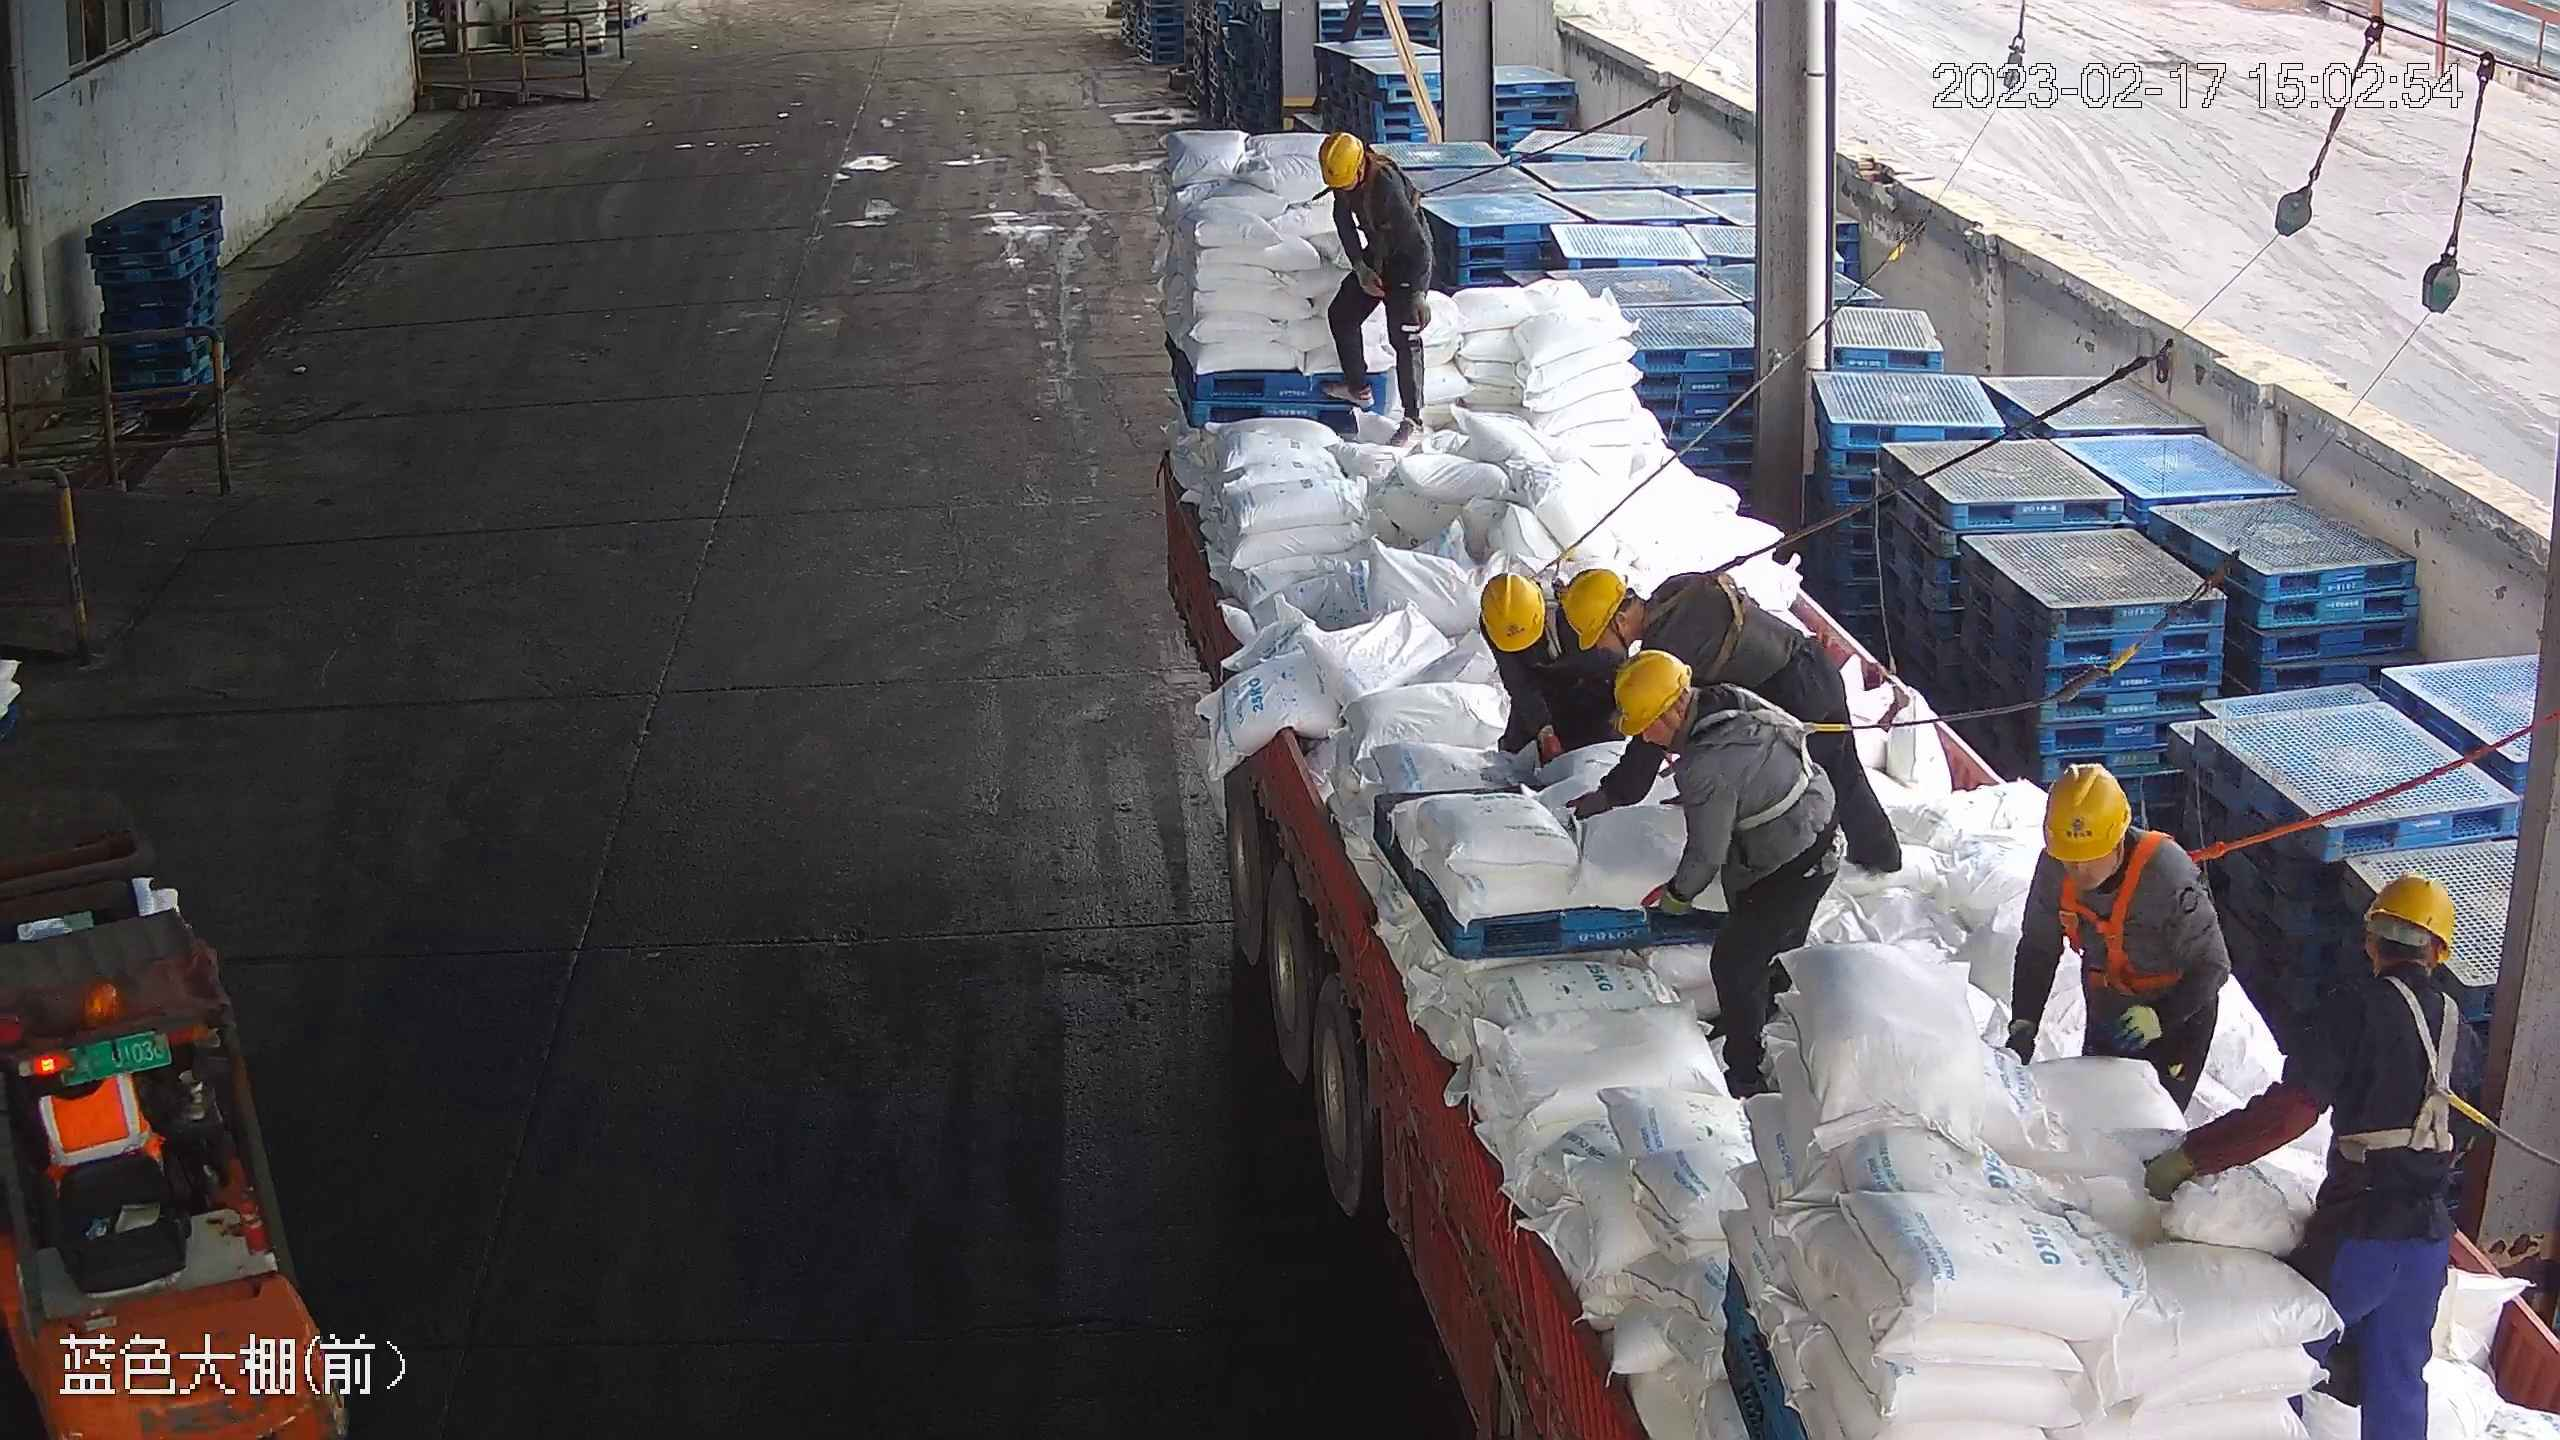belt: (2329, 967, 2495, 1159), (2049, 824, 2223, 995), (1692, 679, 1844, 838), (1642, 556, 1759, 670), (1517, 539, 1588, 659), (1345, 153, 1407, 228)
head: (2301, 866, 2478, 1066), (2021, 758, 2210, 908), (1608, 641, 1805, 783), (1559, 557, 1727, 670), (1315, 129, 1418, 210)
helmet: (2040, 758, 2132, 863), (2360, 870, 2457, 960), (1610, 644, 1693, 736), (1557, 559, 1629, 655), (1479, 568, 1546, 658), (1317, 130, 1363, 191)
people: (2139, 865, 2493, 1440), (1570, 647, 1845, 1105), (1997, 760, 2227, 1123), (1313, 129, 1442, 446)
truck: (1157, 116, 2547, 1440)
